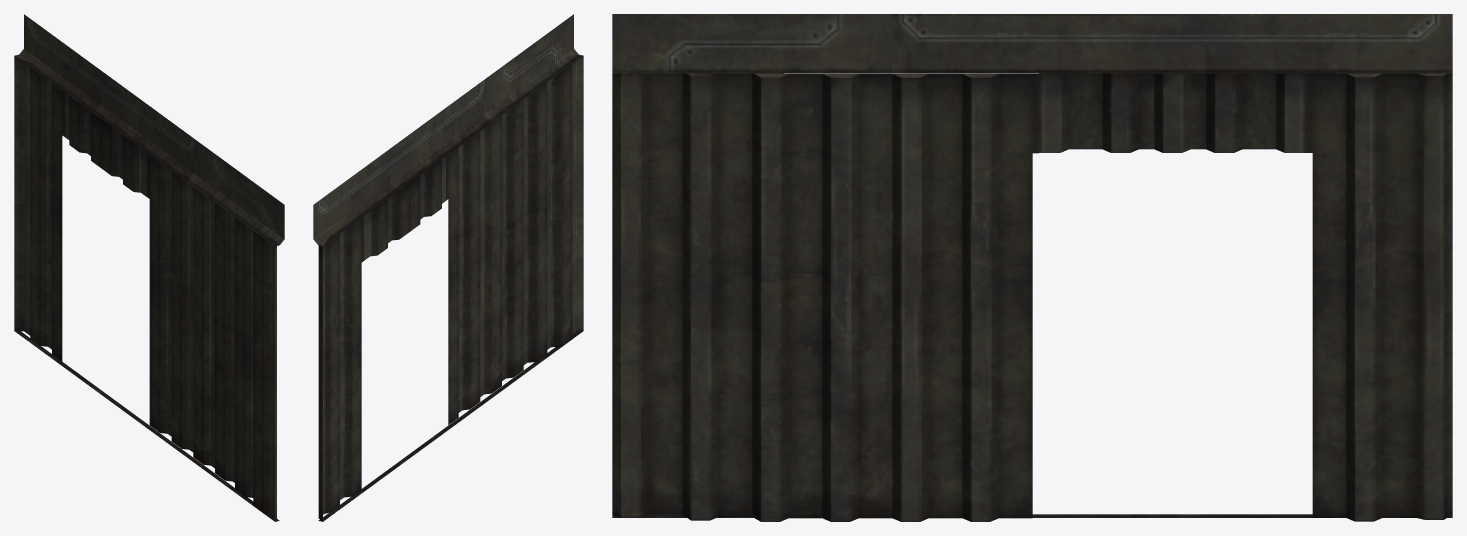
The model's file is pplant_bulkhead_doorway_large2.dae.
3 renders of one model, left to right at view 1: azimuth 30°, elevation 25°; view 2: azimuth 150°, elevation 25°; view 3: azimuth 270°, elevation 25°, orthographic. The views are drawn at different scales.
Visible parts, largest first — view 1: bulkhead_doorway_large2; view 2: bulkhead_doorway_large2; view 3: bulkhead_doorway_large2.
Boxes of the visible parts, bbox=[...] form: bulkhead_doorway_large2: bbox=[14, 14, 284, 521]; bulkhead_doorway_large2: bbox=[313, 14, 583, 521]; bulkhead_doorway_large2: bbox=[612, 14, 1452, 521].
Bounding box in the file's own units: 0.1289 × 4 × 6.
